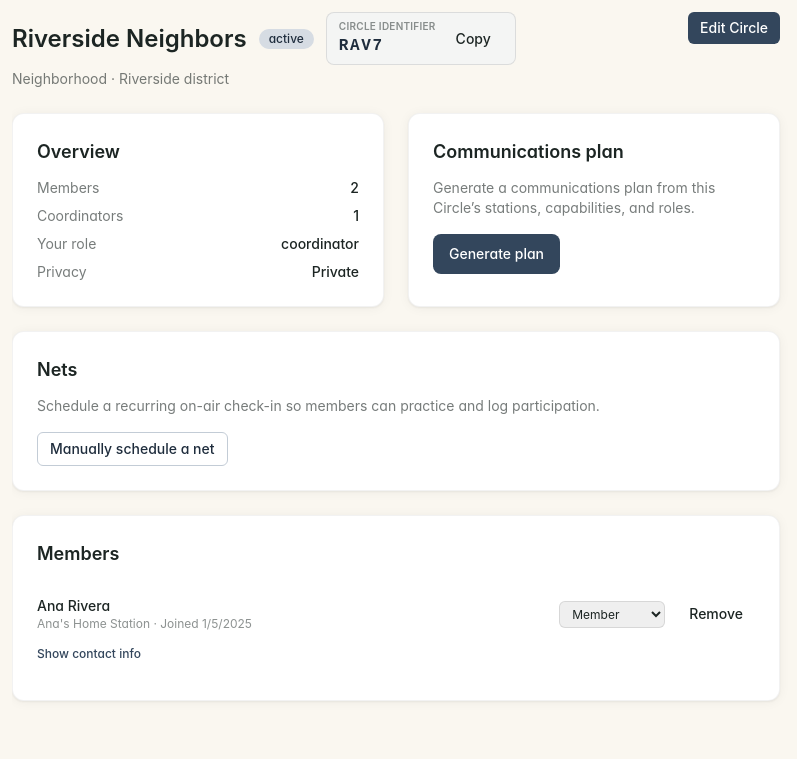
Test: CircleDetailPage members list › combines street, city, state, and zip into one address line
The width and height of the screenshot is (797, 759).
What coordinates should you click on to do the following:
click the button "Show contact info"
I would click on:
 (89, 654)
Its box is [37,646,141,662].
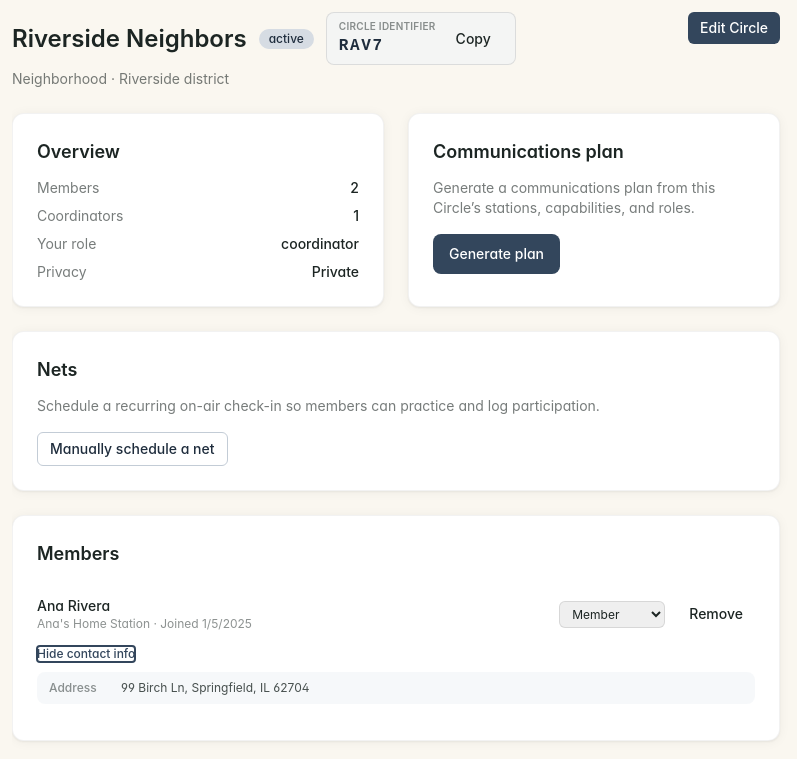
Expected: the text "99 Birch Ln, Springfield, IL 62704" is shown, [121,680,310,696]
